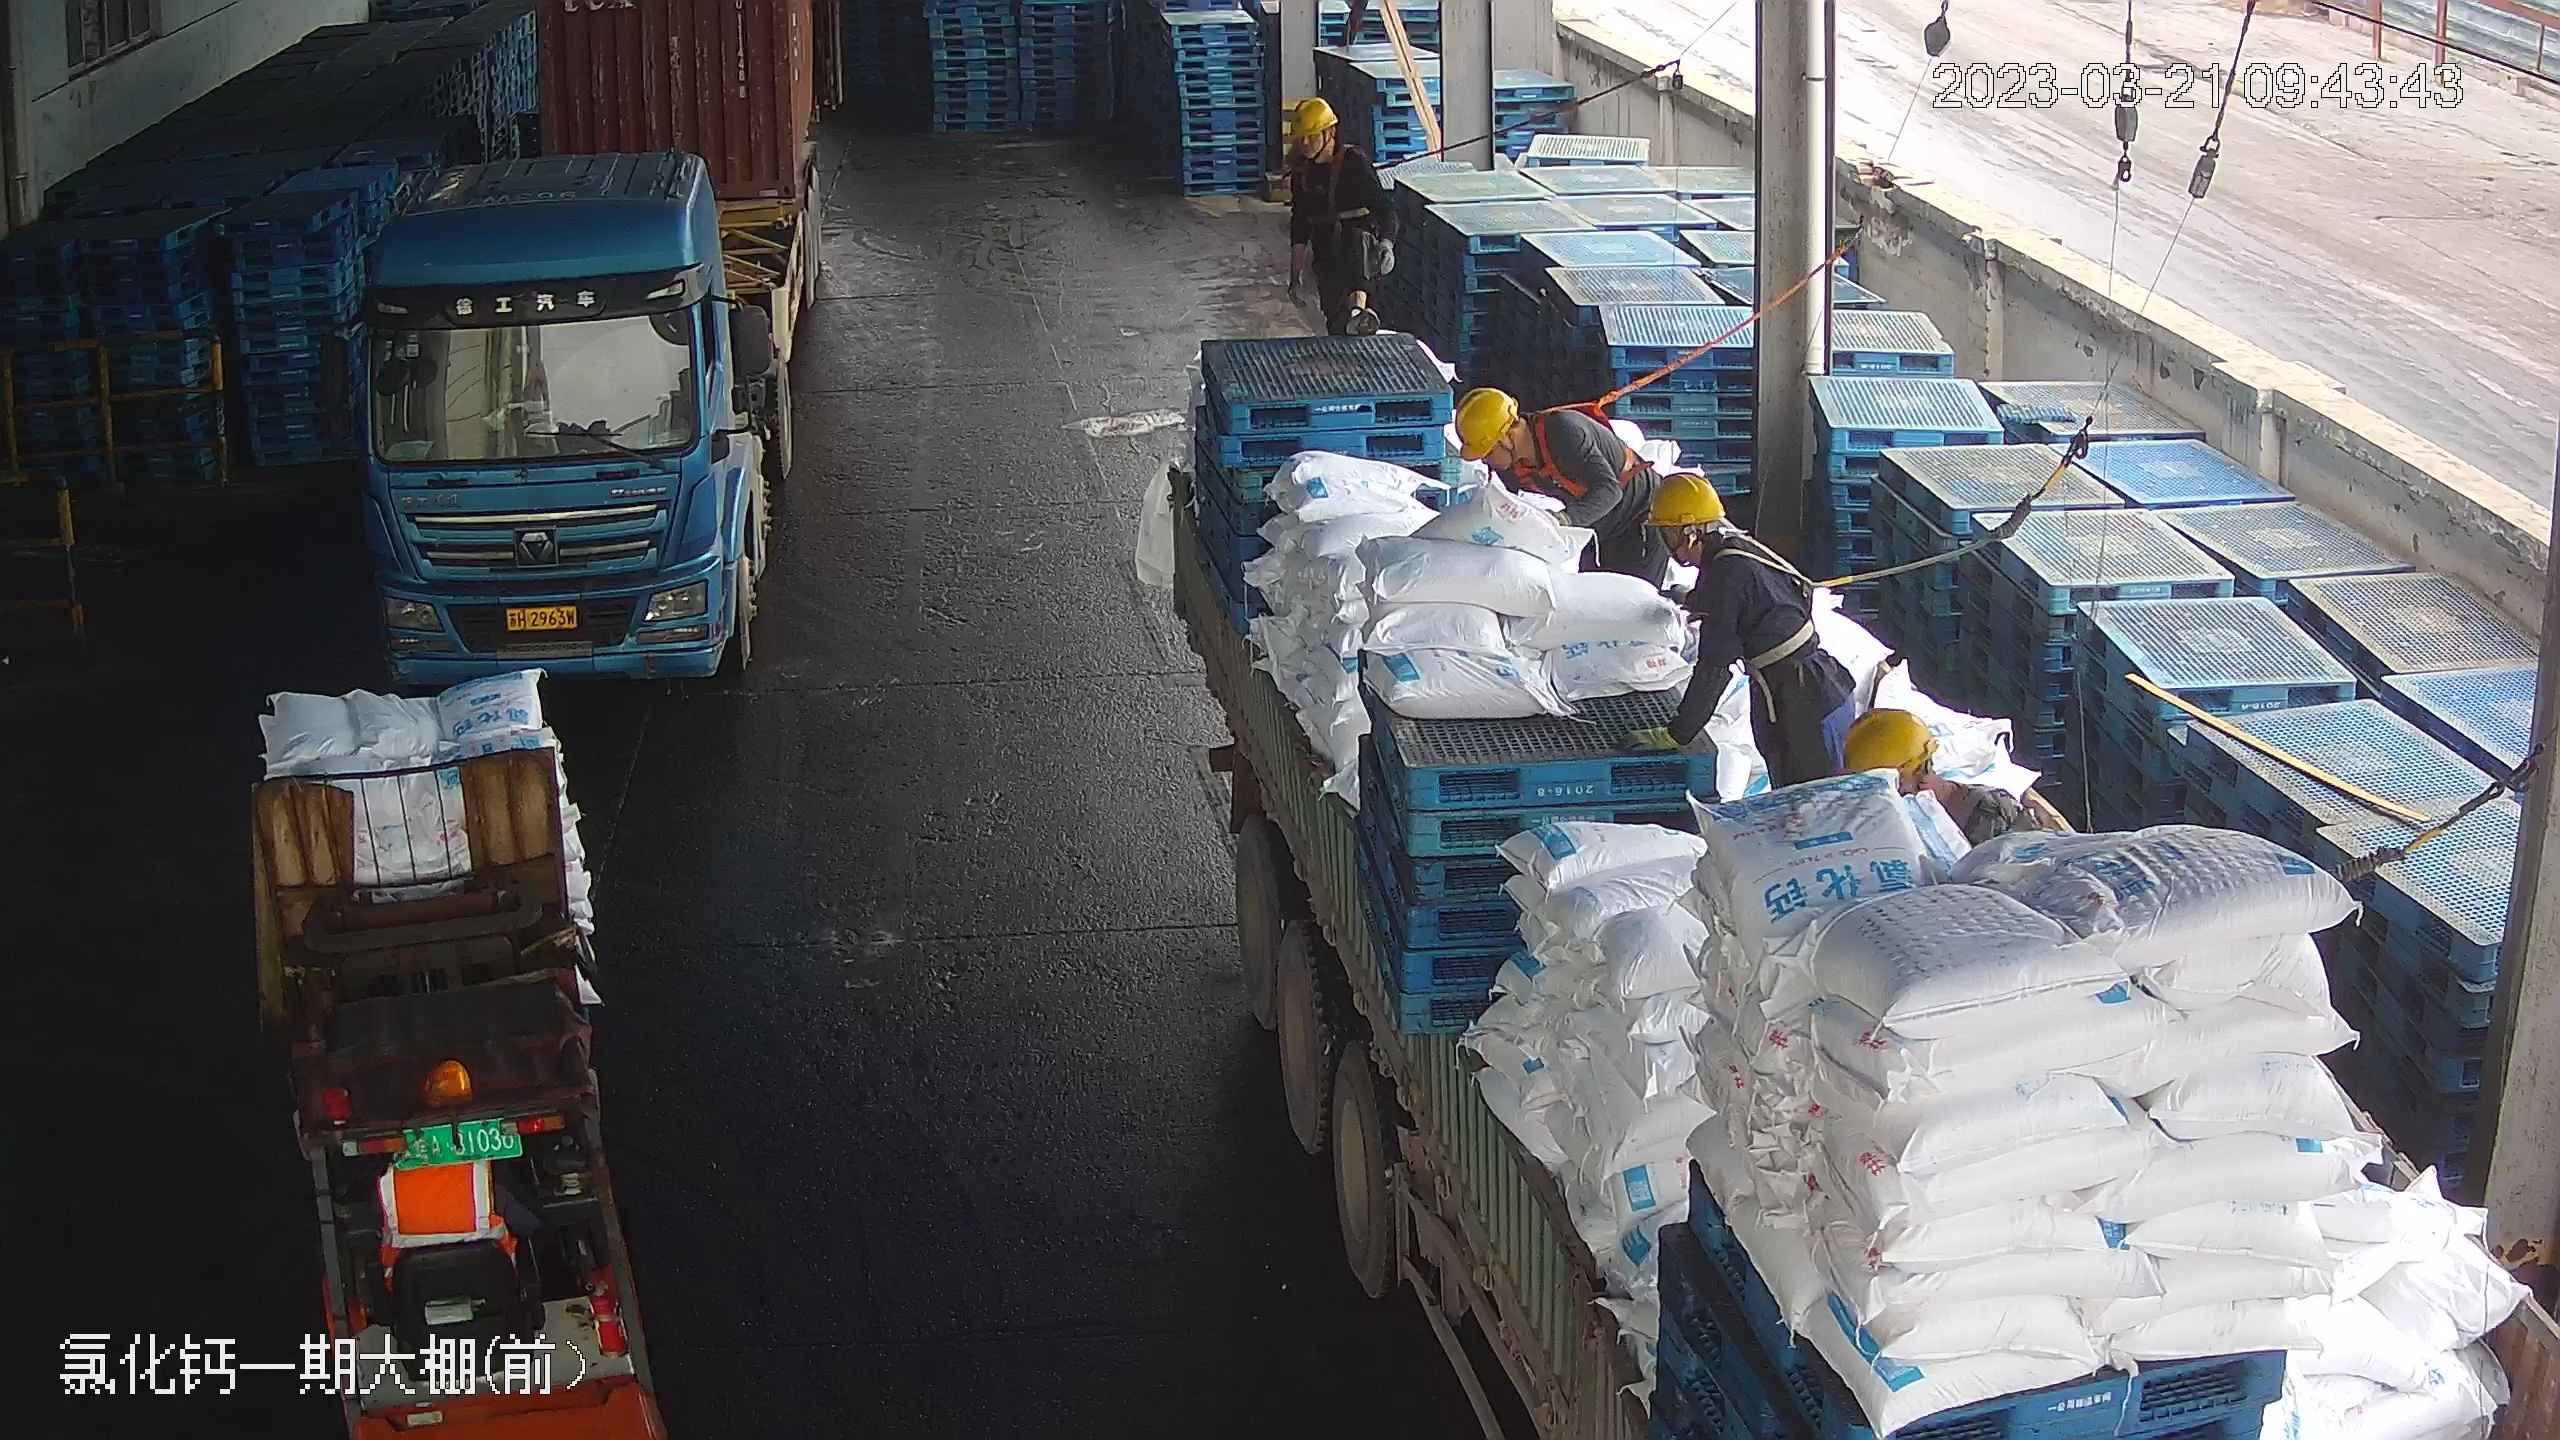belt: (1712, 532, 1850, 668), (1510, 393, 1630, 508), (1294, 143, 1371, 224), (1959, 774, 2020, 831)
head: (1641, 470, 1801, 606), (1445, 385, 1589, 491), (1282, 94, 1381, 189)
helmet: (1839, 705, 1937, 780), (1643, 470, 1728, 531), (1449, 382, 1515, 461), (1285, 93, 1337, 137)
people: (1638, 469, 1856, 794), (1454, 383, 1661, 597), (1282, 92, 1397, 345)
truck: (1174, 189, 2514, 1440), (325, 1, 834, 680)
